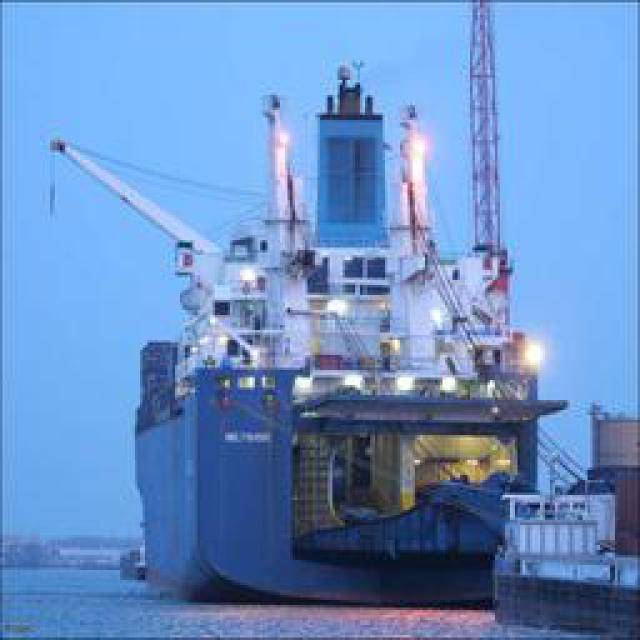Ship: (90, 37, 583, 605)
